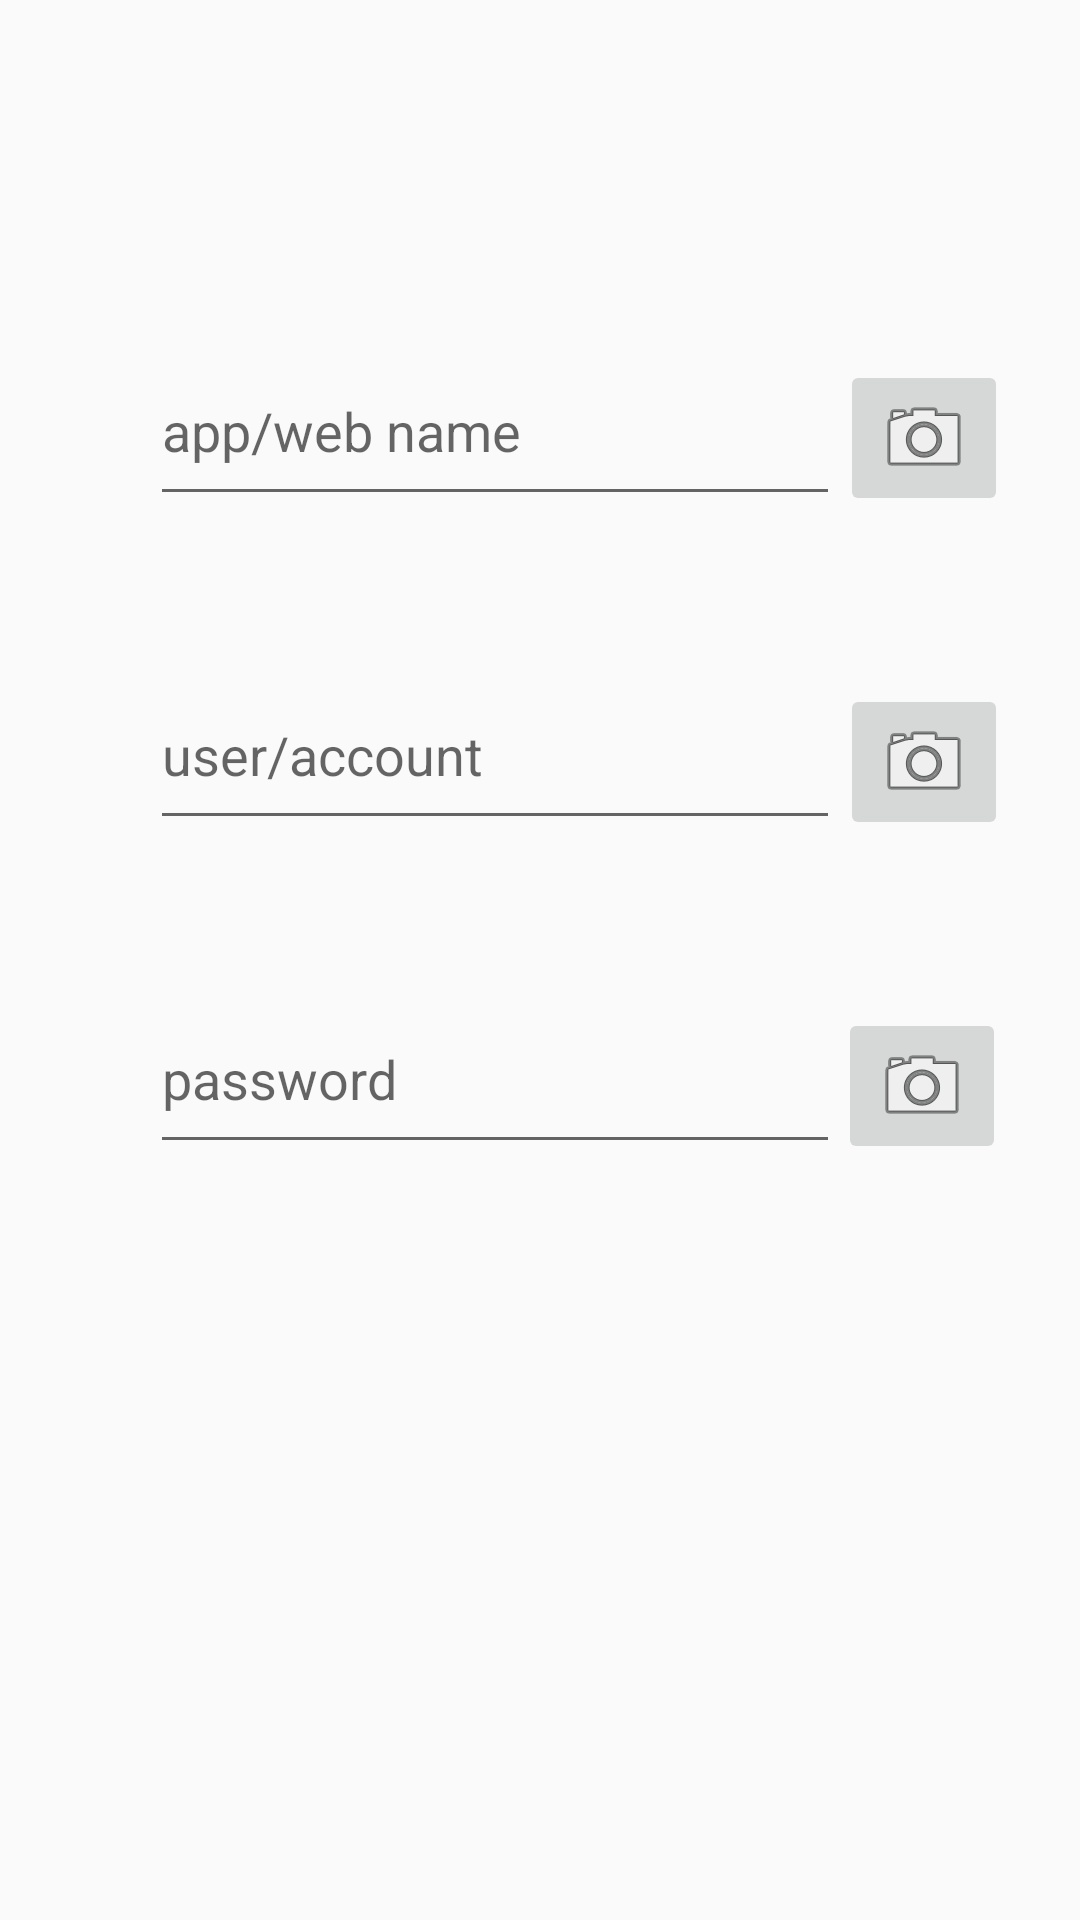

Icon click points for this 1080x1920 phone screenshot, format (x,y):
camera: (924,438), (924,762), (922,1086)
